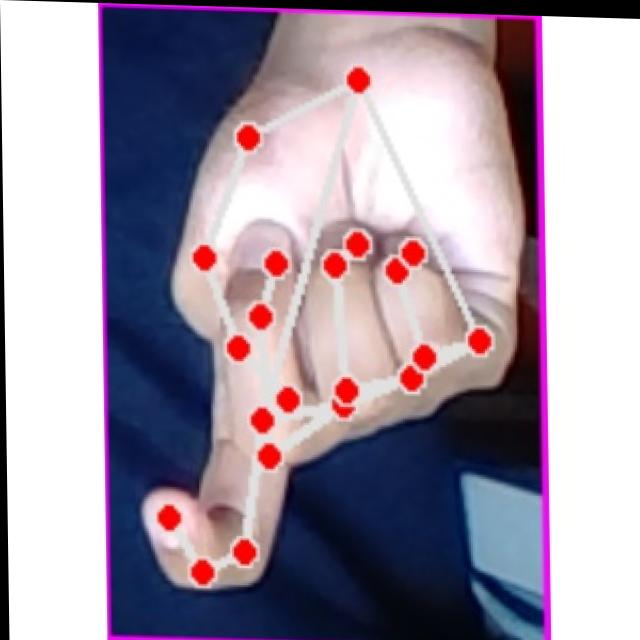Z: (127, 43, 525, 606)
